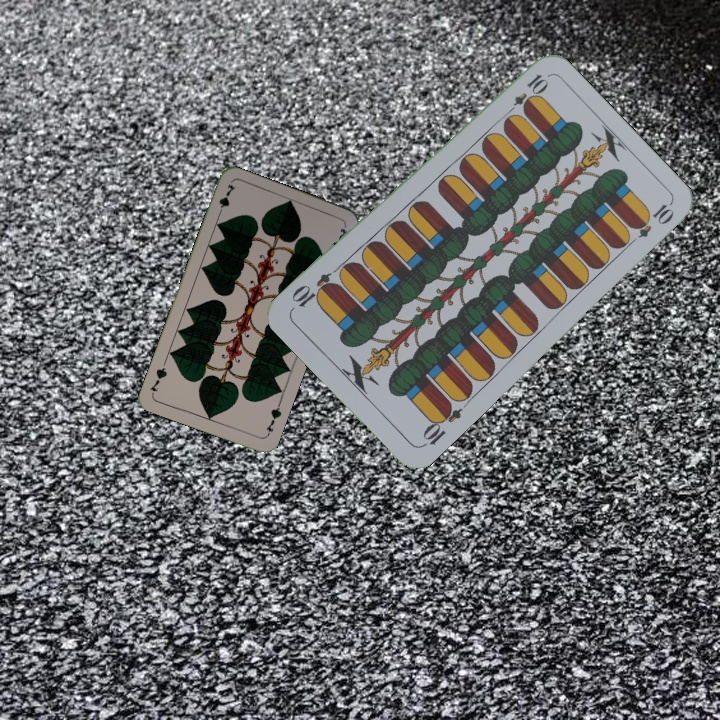E10: (418, 398, 465, 450), (502, 70, 550, 119)
G7: (213, 180, 238, 219), (261, 399, 284, 438)
